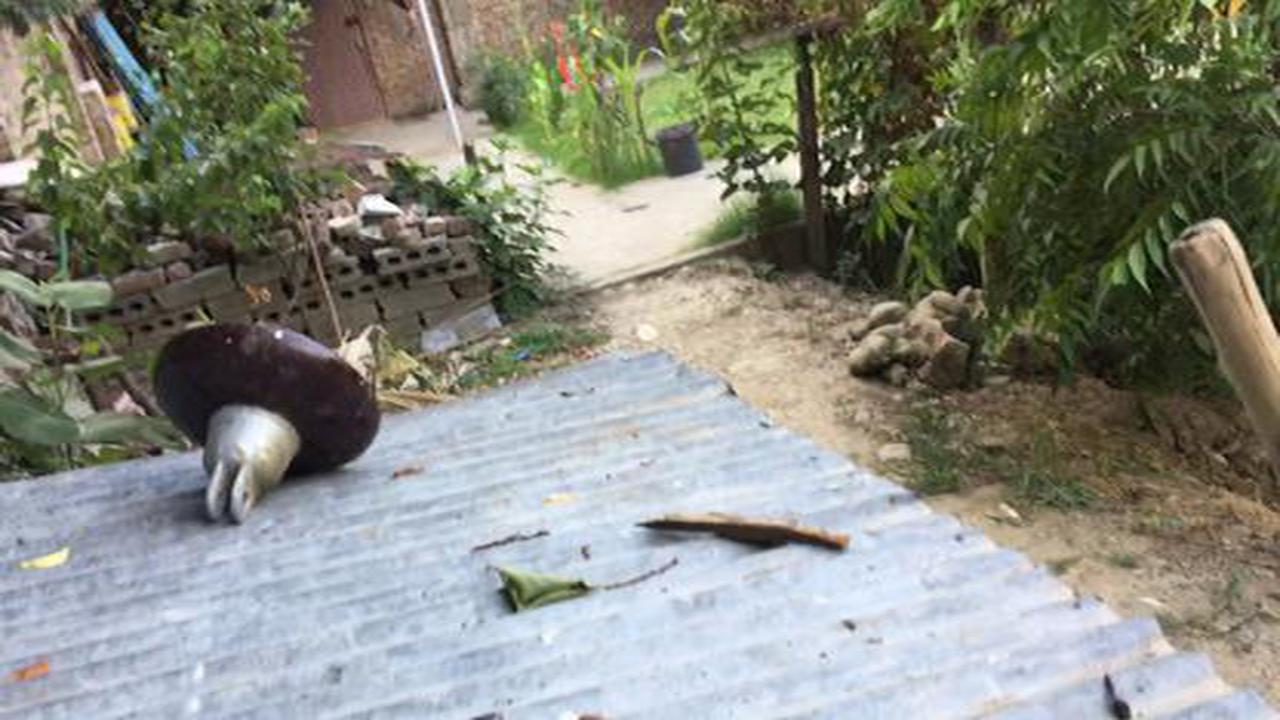insulator_disc: (149, 322, 386, 522)
